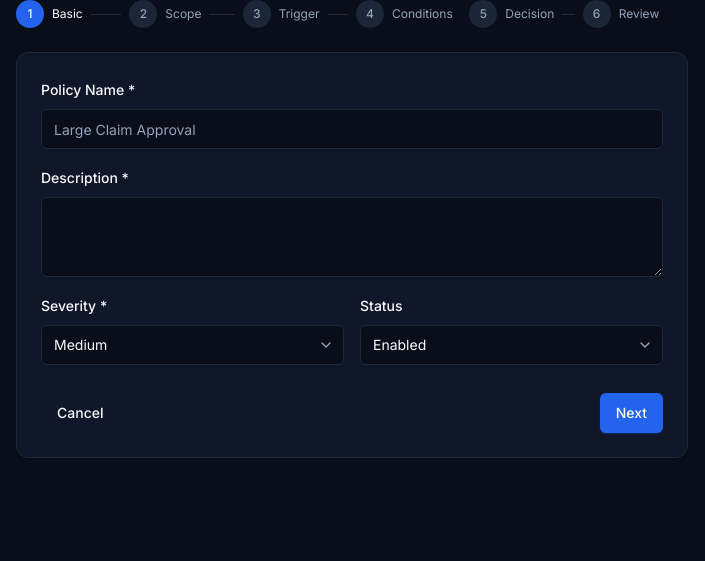
Scenario: PolicyBuilder › blocks step 1 with validation errors when required fields are empty
Click the button "Next" at (631, 413), box [600,393,663,433]
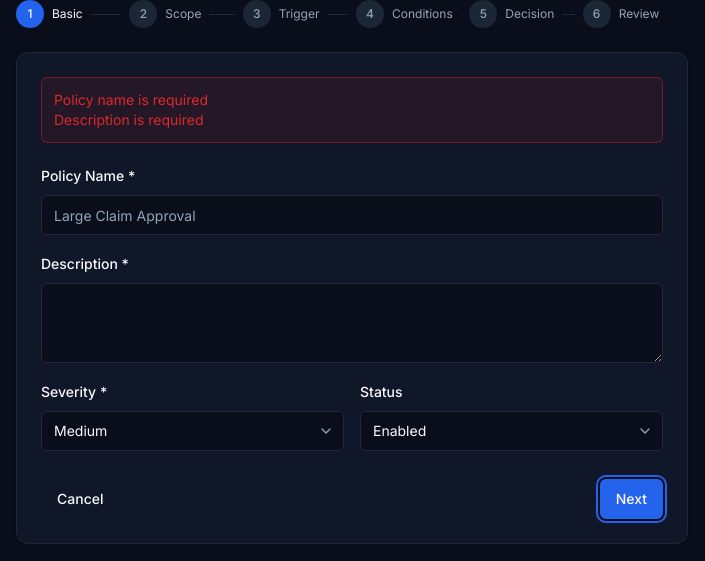
Check: the list item "Policy name is required" is shown, box [54,91,208,108]
Check: the list item "Description is required" is shown, box [54,111,204,128]
